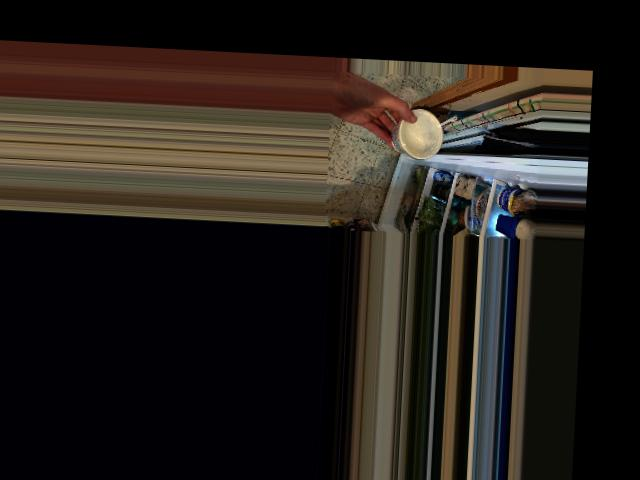cotage: (393, 112, 442, 158)
